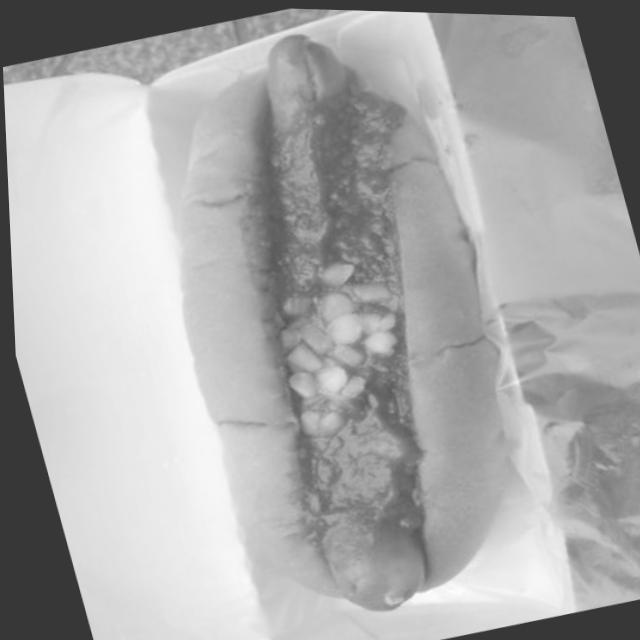三明治: (89, 2, 567, 640)
